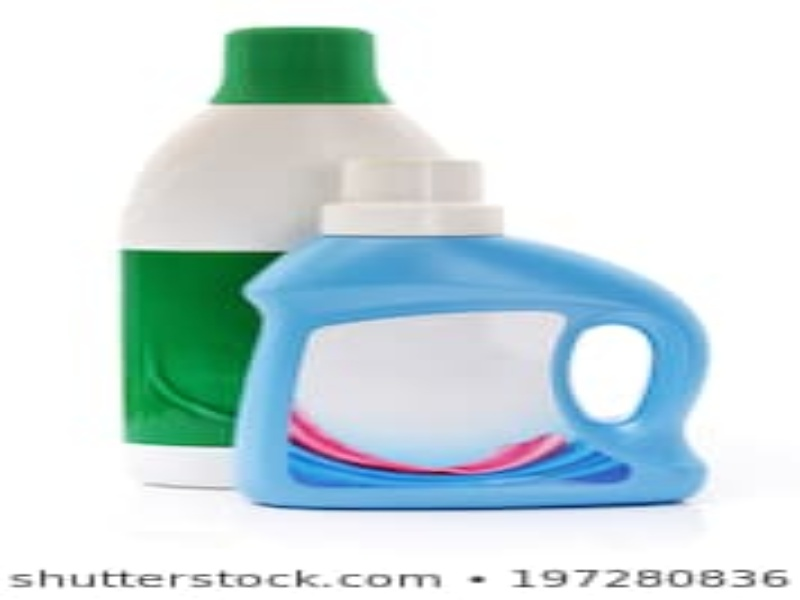bottle-cap: (313, 157, 509, 238)
detergent-bottle: (238, 156, 711, 510), (111, 22, 444, 494)
